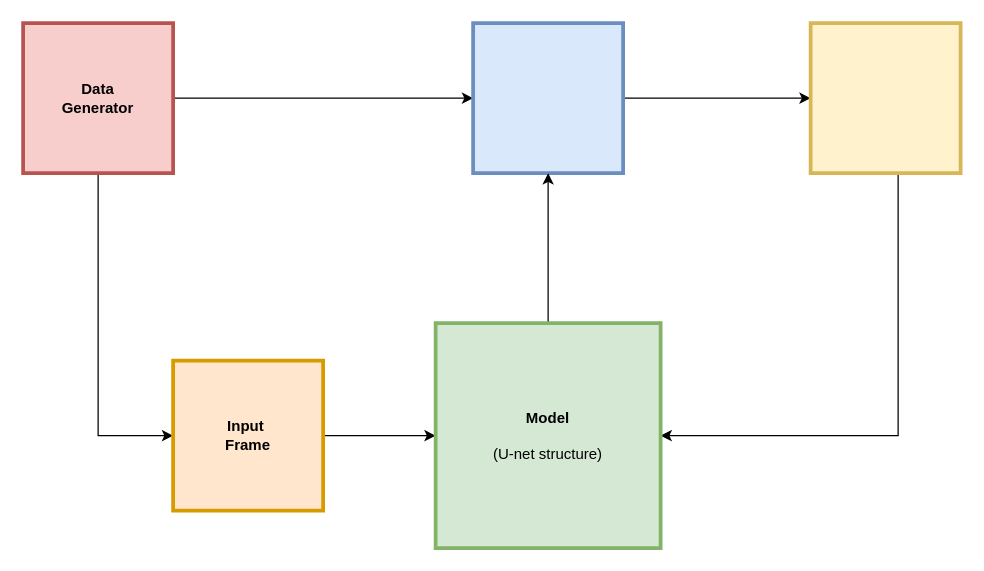
The diagram is 984 pixels wide and 571 high, and some of its shapes have lost their labels. The centre of each missing label's shape, as x and y in pixels:
"Confidence Maps" belongs at point 547,97.
"Loss Function (Mean Average Precision)" belongs at point 885,97.
